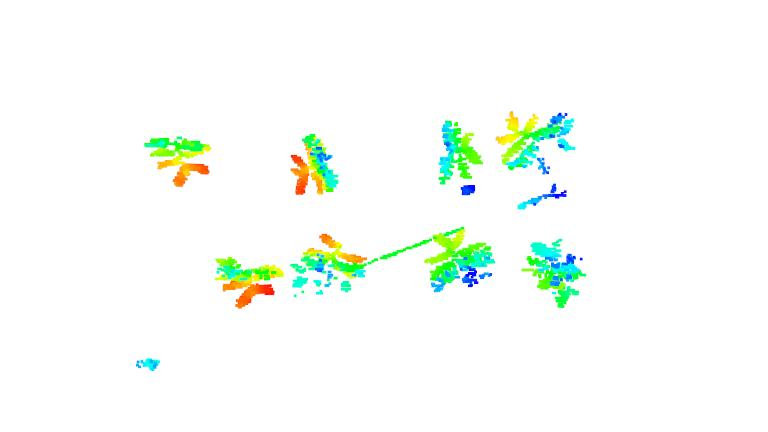chickpea: (495, 107, 575, 176), (522, 236, 588, 309), (426, 229, 499, 294), (292, 235, 368, 295), (284, 129, 346, 196), (148, 131, 214, 190), (211, 254, 284, 306), (434, 116, 485, 189)
